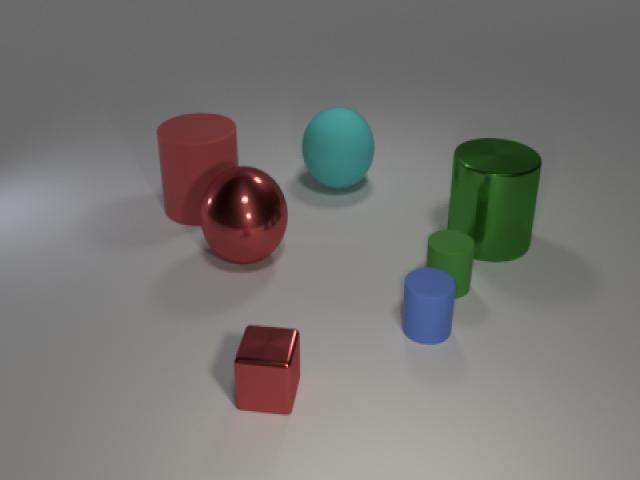cylinder: (444, 126, 546, 268), (150, 105, 248, 231), (399, 262, 458, 346), (424, 224, 479, 302)
round ball: (190, 156, 292, 267), (298, 101, 377, 195)
